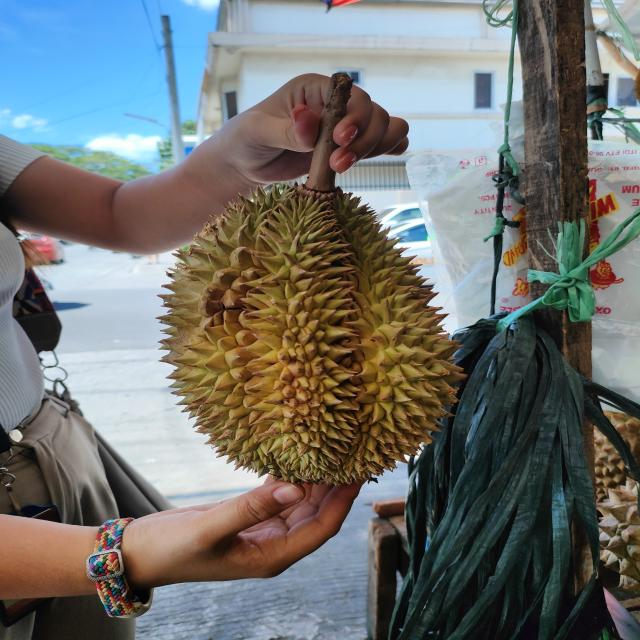mature: (151, 177, 468, 487)
